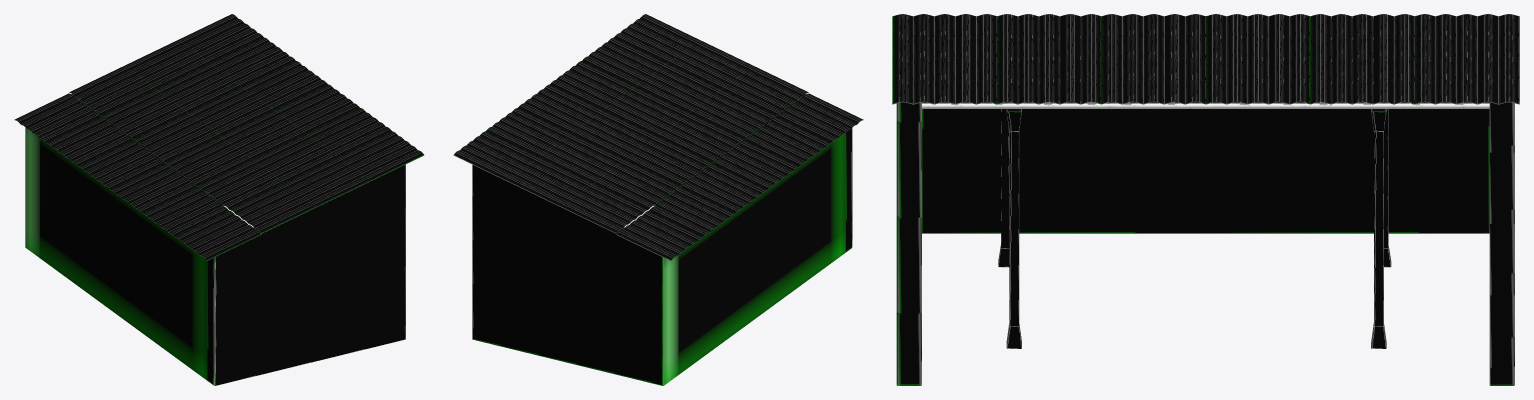
Rendered from Warehouse.FBX.
3 views of the same model, side by side, from view 1: azimuth 30°, elevation 25°; view 2: azimuth 150°, elevation 25°; view 3: azimuth 270°, elevation 25° (orthographic). The views are drawn at different scales.
Parts seen in each view (by area): view 1: Box004; view 2: Box004; view 3: Box004.
Part boxes in pixels (x1,y1,x2,y2): Box004: [14, 14, 424, 385]; Box004: [453, 14, 863, 385]; Box004: [892, 14, 1519, 385].
Bounding box in the file's own units: 313 × 251 × 479.
